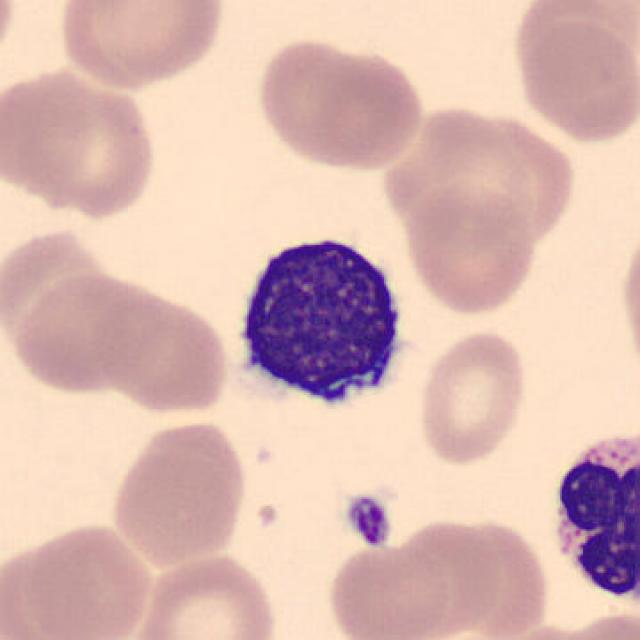Lymphocyte: (233, 233, 411, 407)
Neutrophil: (538, 417, 640, 615)
Platelets: (341, 490, 395, 548)
RBC: (2, 62, 162, 222), (251, 35, 428, 175), (107, 418, 250, 568), (3, 268, 165, 398), (400, 180, 540, 319), (2, 518, 158, 640), (91, 284, 233, 418), (508, 4, 638, 148), (364, 516, 508, 640), (412, 324, 530, 469), (54, 0, 230, 92), (126, 550, 279, 640), (324, 536, 454, 640), (450, 515, 553, 640), (503, 612, 640, 640), (617, 217, 640, 374), (0, 0, 21, 84)
